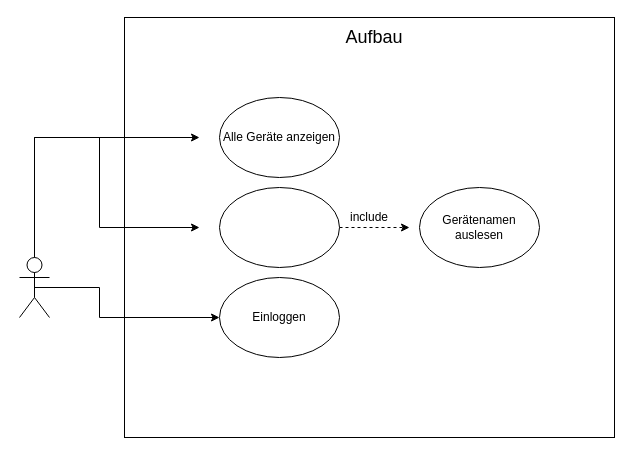
Image size: 632x455. Some labels were removed from this diagram. The shapes that lost their labels are listed below. From the top down, each one's box as (x1, y1, x2, y2) in pixels, then its label:
(218, 186, 340, 268): Status auslesen
(18, 256, 50, 318): Admin
